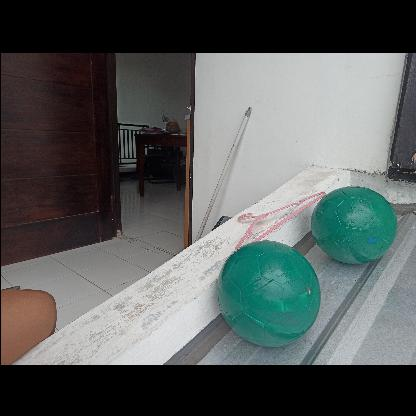green_ball: (216, 238, 324, 345), (311, 183, 395, 267)
